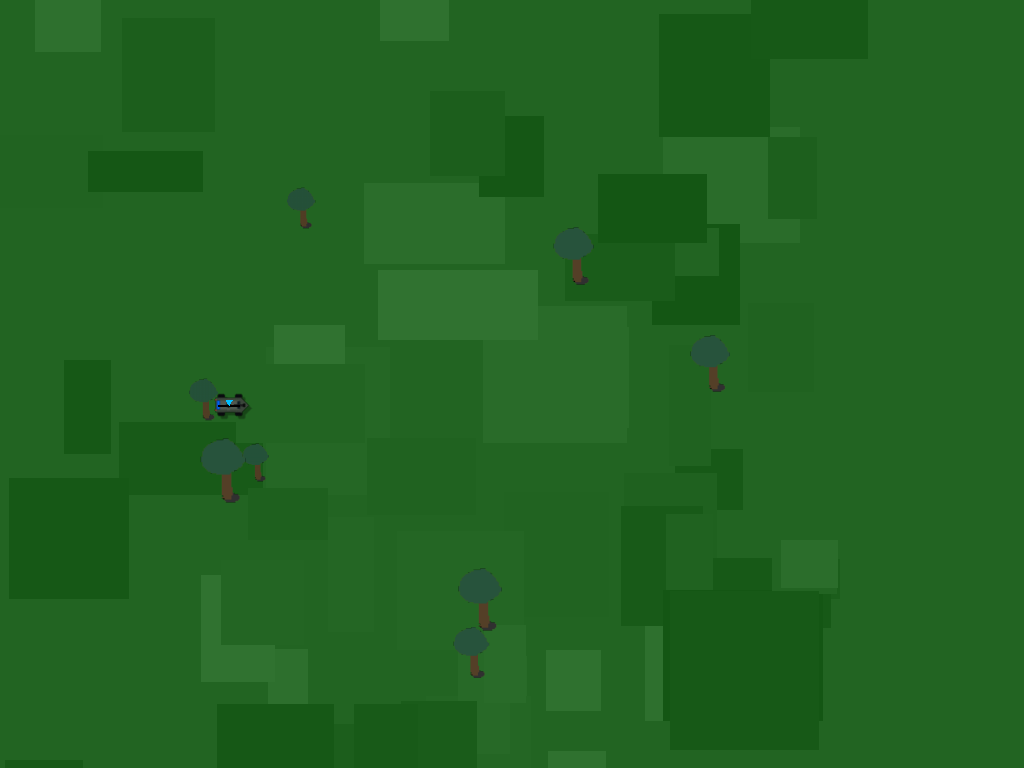ArmoredCar: (212, 387, 246, 421)
